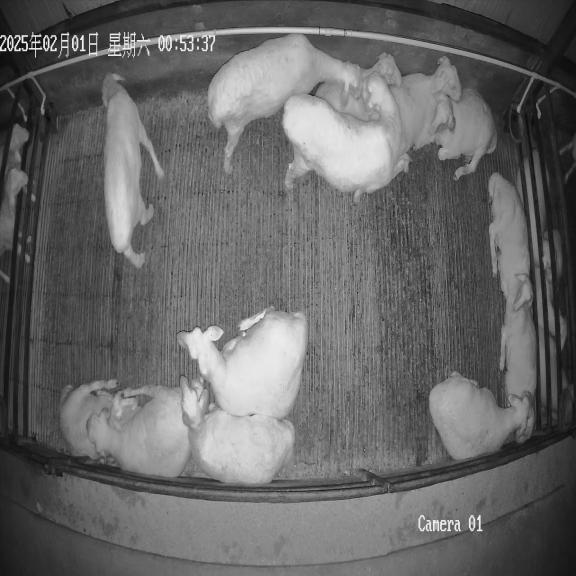lying: (178, 308, 308, 419), (181, 378, 295, 485), (87, 386, 190, 478), (429, 372, 532, 460), (389, 56, 461, 153), (59, 380, 138, 459), (314, 52, 402, 121), (431, 88, 497, 180), (488, 172, 532, 305), (500, 295, 537, 443)
stand: (207, 34, 367, 173), (282, 69, 401, 202), (102, 73, 164, 268)
